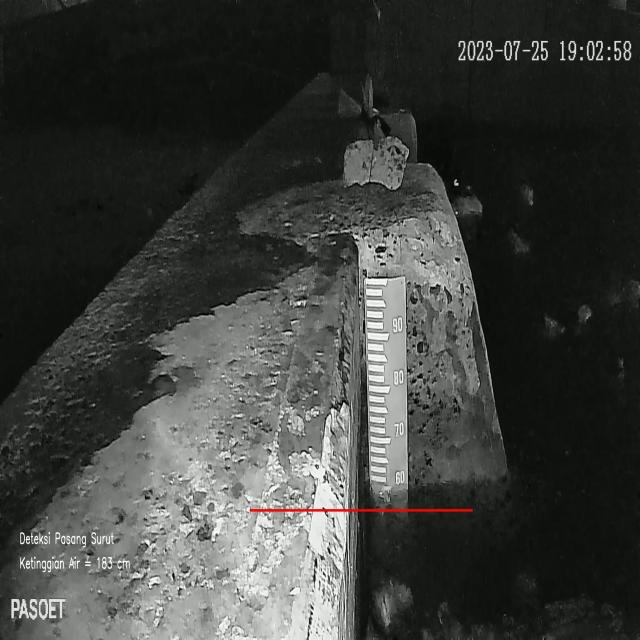water-meter: (360, 270, 411, 540)
